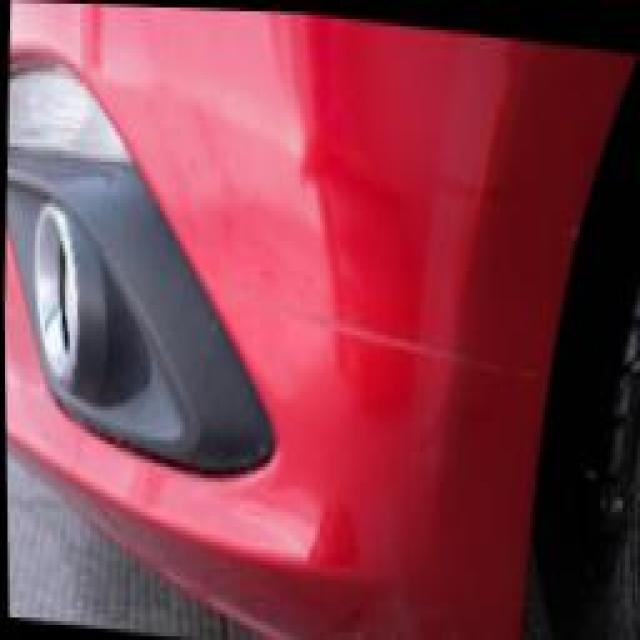Bumper: (198, 230, 548, 464)
